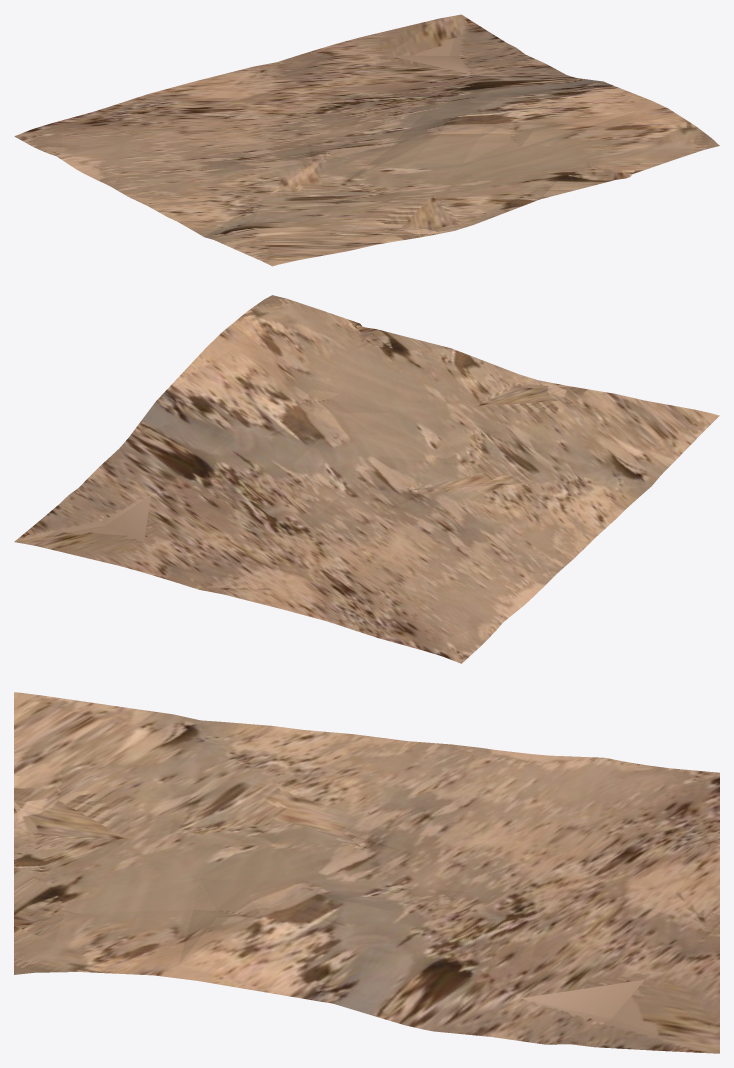
3 renders of one model, top to bottom at view 1: azimuth 30°, elevation 25°; view 2: azimuth 150°, elevation 25°; view 3: azimuth 270°, elevation 25°, orthographic. The views are drawn at different scales.
Bounding box in the file's own units: 2.09 × 0.3237 × 2.09.
Materials: 3 (3 with a texture image).
